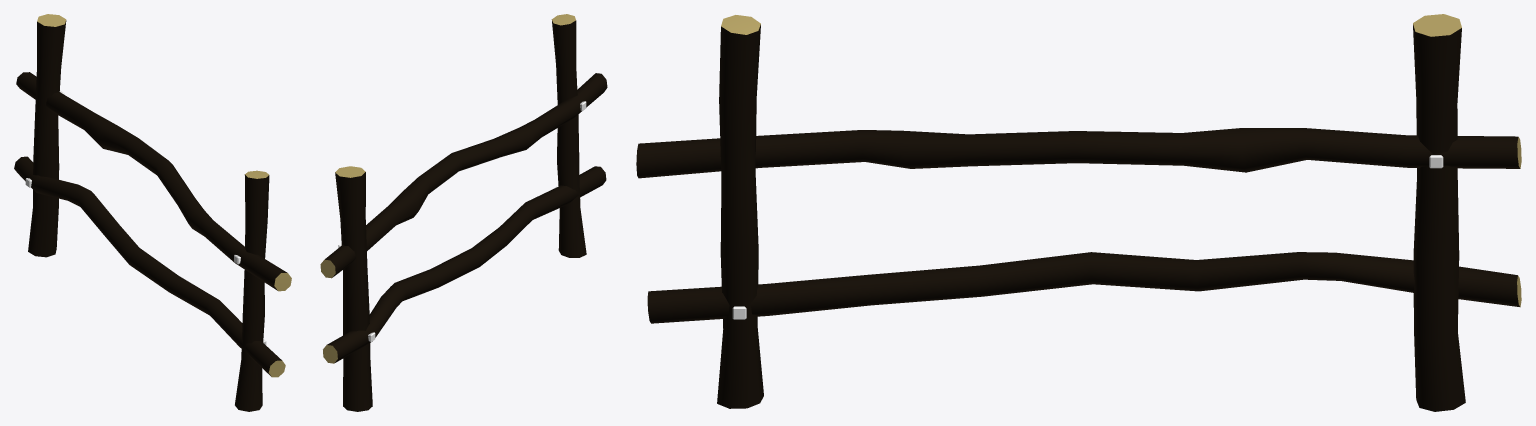
File: fence6.fbx
The picture shows the model from 3 angles, left to right: view 1: azimuth 30°, elevation 25°; view 2: azimuth 150°, elevation 25°; view 3: azimuth 270°, elevation 25°; orthographic projection. The views are drawn at different scales.
Visible parts, largest first — view 1: fence6_LOD0; view 2: fence6_LOD0; view 3: fence6_LOD0.
Part boxes in pixels (bbox=[...]): fence6_LOD0: bbox=[14, 14, 291, 411]; fence6_LOD0: bbox=[320, 14, 607, 411]; fence6_LOD0: bbox=[636, 14, 1521, 411].
Size of what is drawn, in the model's own units: 29.43 by 153 by 318.
